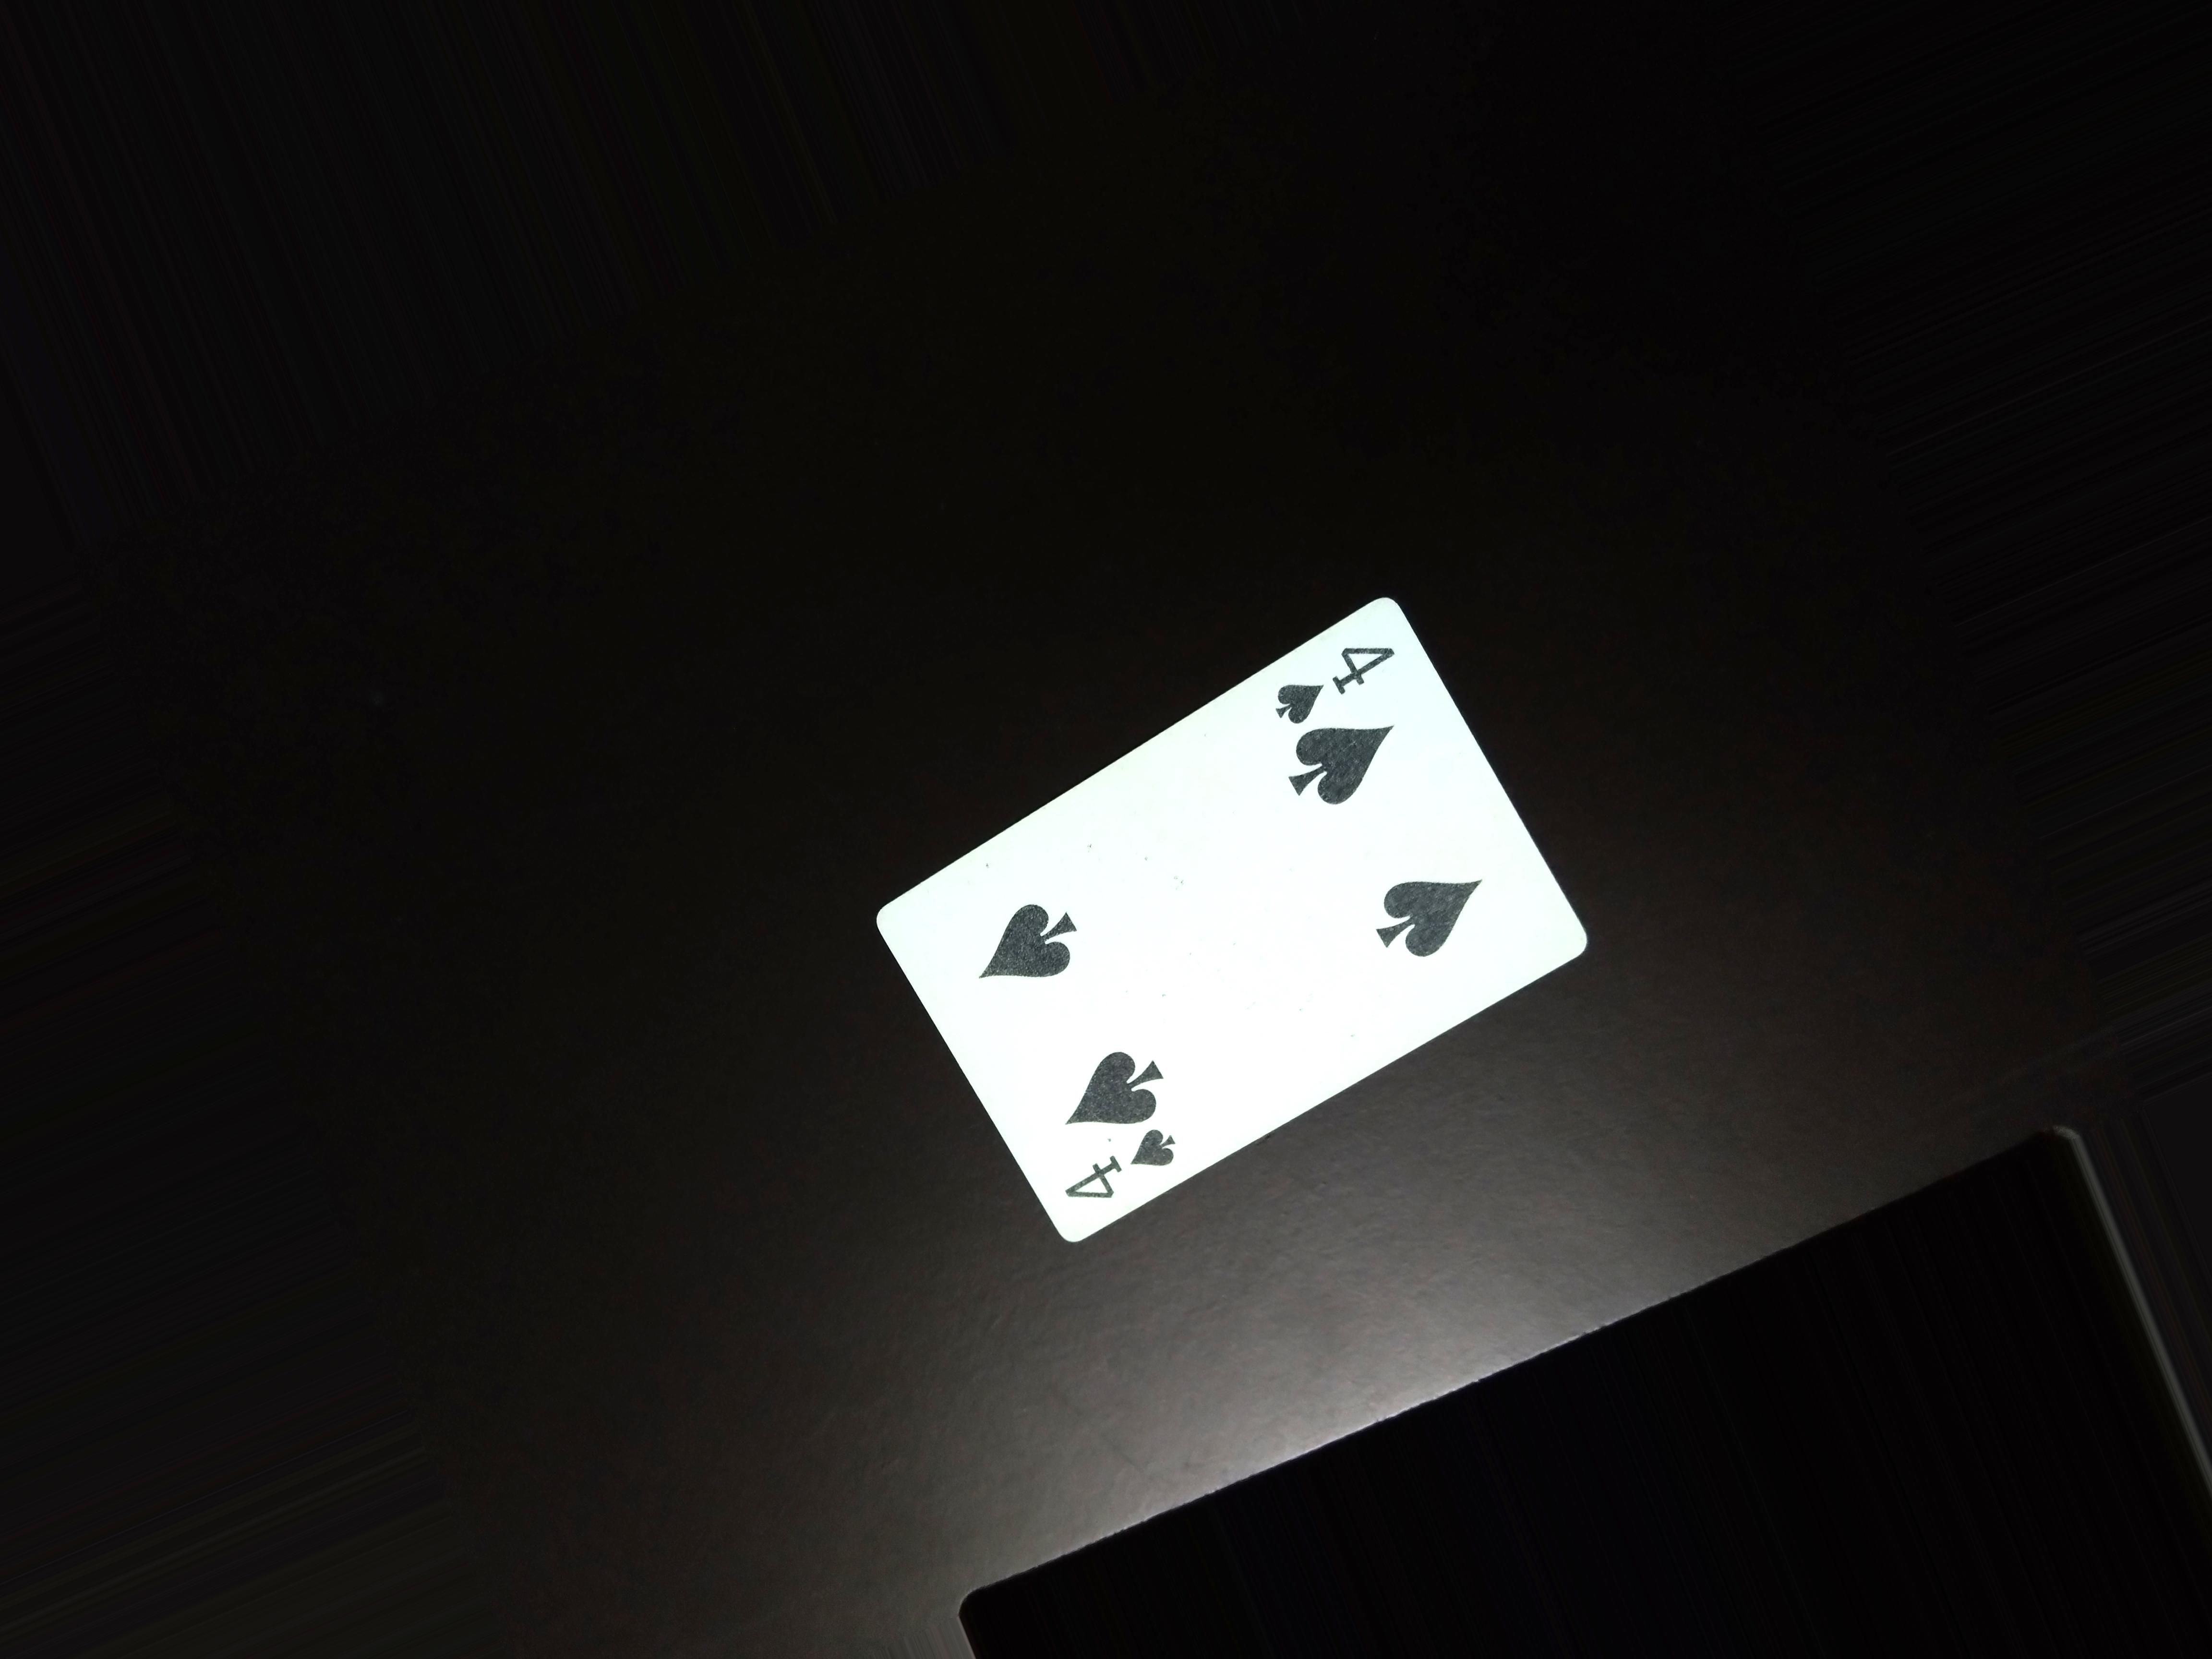4S: (1263, 631, 1402, 725)
